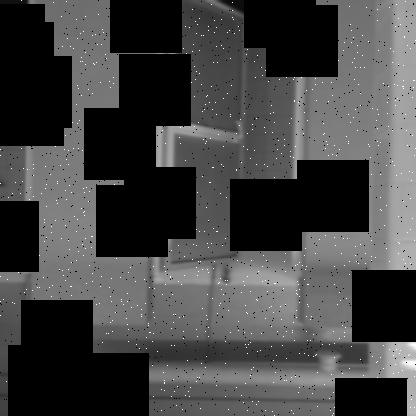Porte: (149, 1, 308, 280)
